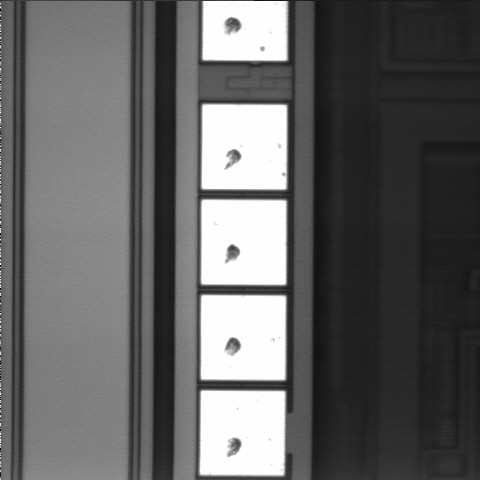pad: (202, 104, 287, 189), (201, 200, 286, 285), (201, 295, 286, 380), (200, 391, 285, 475)
